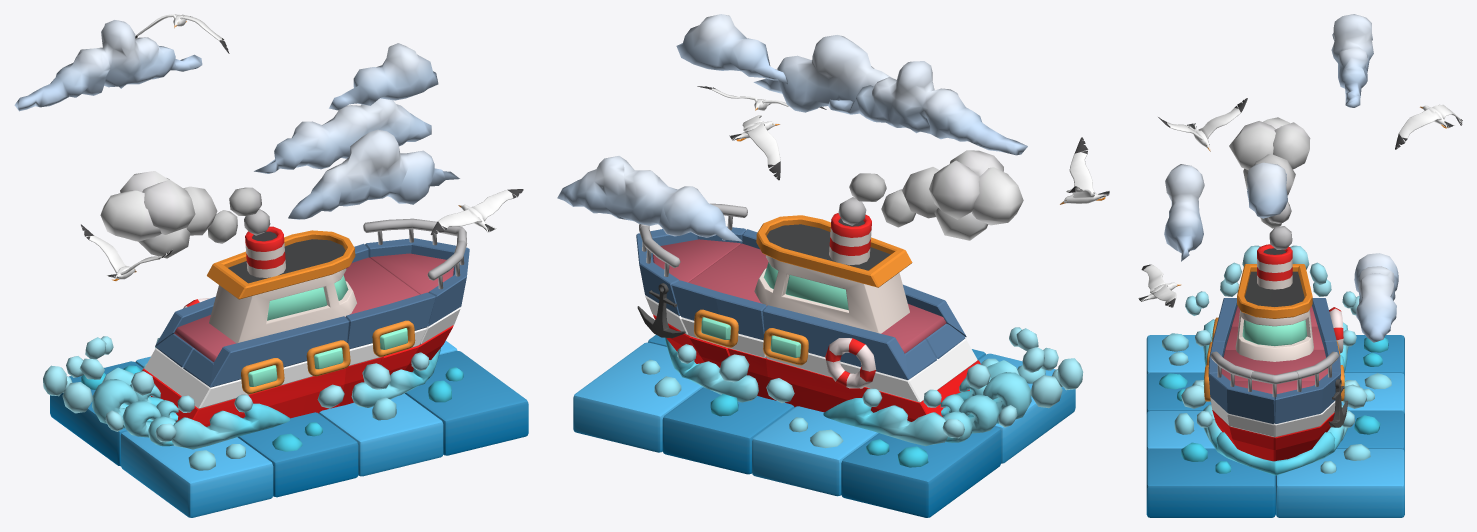
The model's file is Level_P_08.fbx.
3 views of the same model, side by side, from view 1: azimuth 30°, elevation 25°; view 2: azimuth 150°, elevation 25°; view 3: azimuth 270°, elevation 25° (orthographic). The views are drawn at different scales.
Visible parts, largest first — view 1: Cube.076, nube.008, Cube.079, nube, Cube.078, nube.005, Cube.077, Boat_07, Boat_10, Boat_05, Boat_02.006, nube.003 (+36 smaller); view 2: Cube.080, Cube.083, nube.005, nube, Cube.082, Cube.081, Boat_07, Boat_10, nube.008, Boat_05, nube.003, Boat_02.005 (+36 smaller); view 3: Cube.079, Cube.083, nube.005, nube.008, Boat_10, nube, Boat_05.038, Boat_05.036, Boat_07, nube.003, Boat_02.001, Boat_02 (+31 smaller).
Boxes of the visible parts, left/top/right/bottom form: Cube.076: left=120, top=431, right=273, bottom=517; nube.008: left=288, top=129, right=459, bottom=219; Cube.079: left=405, top=351, right=528, bottom=455; nube: left=14, top=20, right=202, bottom=111; Cube.078: left=319, top=393, right=443, bottom=476; nube.005: left=254, top=98, right=431, bottom=173; Cube.077: left=237, top=412, right=358, bottom=497; Boat_07: left=209, top=268, right=356, bottom=343; Boat_10: left=207, top=230, right=355, bottom=299; Boat_05: left=142, top=357, right=382, bottom=426; Boat_02.006: left=210, top=316, right=349, bottom=387; nube.003: left=329, top=43, right=438, bottom=110; Cube.080: left=841, top=427, right=1001, bottom=517; Cube.083: left=573, top=342, right=702, bottom=452; nube.005: left=557, top=156, right=742, bottom=241; nube: left=828, top=61, right=1027, bottom=155; Cube.082: left=662, top=387, right=794, bottom=474; Cube.081: left=752, top=406, right=878, bottom=496; Boat_07: left=754, top=255, right=909, bottom=333; Boat_10: left=756, top=215, right=912, bottom=287; nube.008: left=753, top=35, right=891, bottom=112; Boat_05: left=728, top=348, right=980, bottom=421; nube.003: left=676, top=14, right=787, bottom=84; Boat_02.005: left=762, top=305, right=908, bottom=379; Cube.079: left=1146, top=449, right=1275, bottom=517; Cube.083: left=1276, top=449, right=1404, bottom=517; nube.005: left=1354, top=253, right=1398, bottom=342; nube.008: left=1164, top=164, right=1204, bottom=261; Boat_10: left=1237, top=264, right=1312, bottom=318; nube: left=1331, top=14, right=1373, bottom=107; Boat_05.038: left=1203, top=404, right=1348, bottom=475; Boat_05.036: left=1212, top=410, right=1334, bottom=461; Boat_07: left=1235, top=310, right=1313, bottom=361; nube.003: left=1246, top=162, right=1287, bottom=218; Boat_02.001: left=1209, top=373, right=1274, bottom=423; Boat_02: left=1274, top=373, right=1340, bottom=423.
Size of the model in its own units: 18.14 by 16.33 by 12.95.
